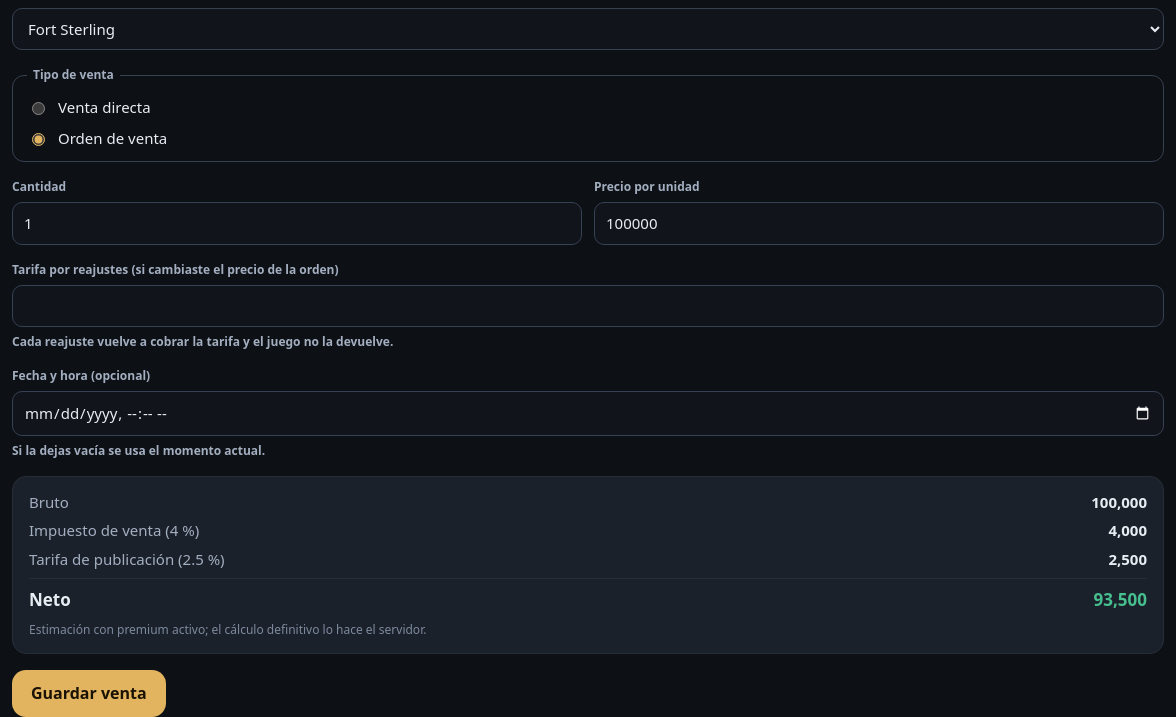
Test: FormularioVenta › si el servidor rechaza la venta muestra el motivo y no cierra
(page scrolled)
Click the button "Guardar venta": (89, 693) [12,670,166,716]
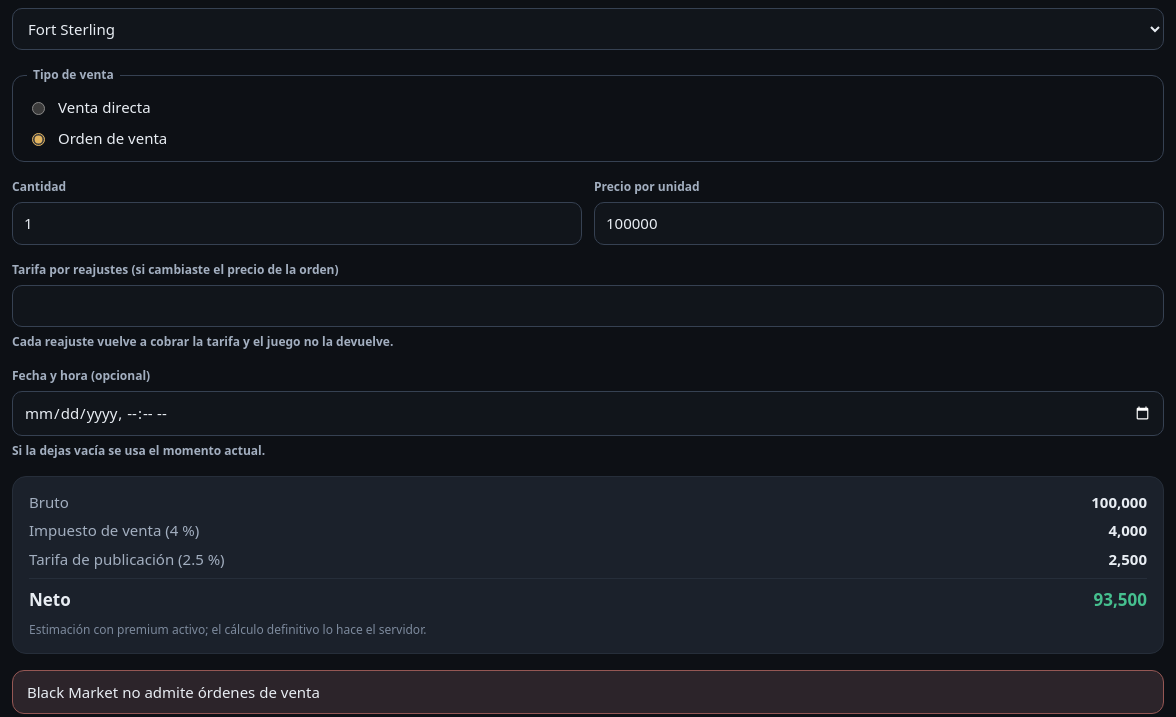
Result: the message reads "Black Market no admite órdenes de venta" at [27,682,320,702]
